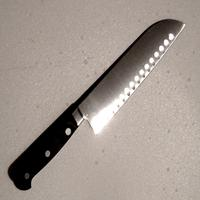knife: (7, 11, 191, 191)
